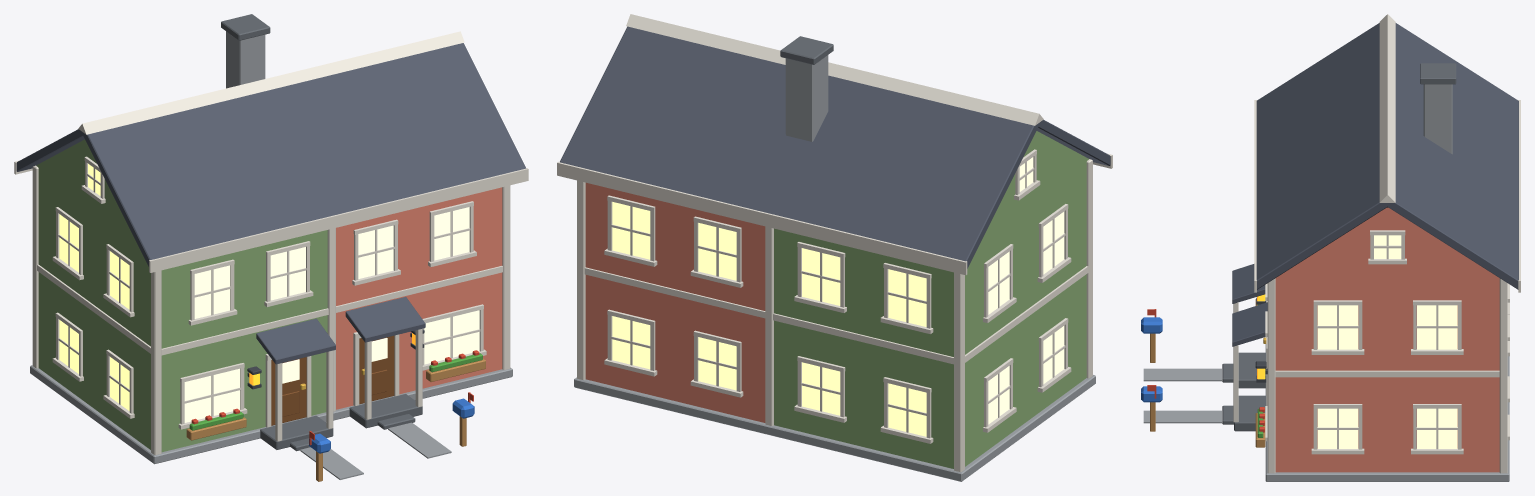
Rendered from sage-and-coral-duplex.glb.
3 renders of one model, left to right at view 1: azimuth 30°, elevation 25°; view 2: azimuth 150°, elevation 25°; view 3: azimuth 270°, elevation 25°, orthographic. The views are drawn at different scales.
Parts seen in each view (by area): view 1: Roof, Walls_Sage, Walls_Coral, Fascia_Front, Roof_RidgeCap, Foundation, Trim_FloorBand, PorchRoof_Coral, PorchRoof_Sage, Window_Sage_01_Glass, Window_Coral_13_Glass, Trim_Corner_LF (+25 smaller); view 2: Roof, Walls_Sage, Walls_Coral, Foundation, Fascia_Back, Roof_RidgeCap, Trim_FloorBand, Chimney, Trim_Corner_LB, Window_Sage_07_Glass, Window_Coral_19_Glass, Trim_Corner_RB (+13 smaller); view 3: Roof, Walls_Coral, Roof_RidgeCap, Foundation, Chimney, Trim_FloorBand, Trim_Corner_RB, Trim_Corner_RF, Window_Coral_21_Glass, Window_Coral_23_Glass, Window_Coral_22_Glass, Window_Coral_20_Glass (+10 smaller).
Boxes of the visible parts, <box> form: Roof: <box>16,43,525,266</box>; Walls_Sage: <box>36,139,327,452</box>; Walls_Coral: <box>336,187,502,409</box>; Fascia_Front: <box>149,168,528,272</box>; Roof_RidgeCap: <box>78,31,464,134</box>; Foundation: <box>30,365,512,464</box>; Trim_FloorBand: <box>37,264,502,355</box>; PorchRoof_Coral: <box>345,297,425,342</box>; PorchRoof_Sage: <box>256,318,335,364</box>; Window_Sage_01_Glass: <box>184,368,240,422</box>; Window_Coral_13_Glass: <box>424,310,479,364</box>; Trim_Corner_LF: <box>151,270,161,455</box>; Roof: <box>560,26,1110,268</box>; Walls_Sage: <box>774,131,1088,468</box>; Walls_Coral: <box>585,182,765,422</box>; Foundation: <box>574,375,1095,481</box>; Fascia_Back: <box>557,161,967,275</box>; Roof_RidgeCap: <box>626,14,1043,125</box>; Trim_FloorBand: <box>584,266,1088,364</box>; Chimney: <box>785,55,828,141</box>; Trim_Corner_LB: <box>954,272,964,471</box>; Window_Sage_07_Glass: <box>888,269,926,326</box>; Window_Coral_19_Glass: <box>612,202,650,259</box>; Trim_Corner_RB: <box>577,180,585,379</box>; Roof: <box>1256,23,1518,289</box>; Walls_Coral: <box>1275,207,1499,472</box>; Roof_RidgeCap: <box>1379,14,1395,202</box>; Foundation: <box>1265,337,1509,481</box>; Chimney: <box>1423,84,1452,154</box>; Trim_FloorBand: <box>1275,370,1499,377</box>; Trim_Corner_RB: <box>1499,278,1507,473</box>; Trim_Corner_RF: <box>1267,278,1275,473</box>; Window_Coral_21_Glass: <box>1317,305,1358,349</box>; Window_Coral_23_Glass: <box>1417,305,1457,349</box>; Window_Coral_22_Glass: <box>1417,408,1457,448</box>; Window_Coral_20_Glass: <box>1317,408,1358,448</box>.
Bounding box in the file's own units: 47.4 × 39.8 × 42.05.
